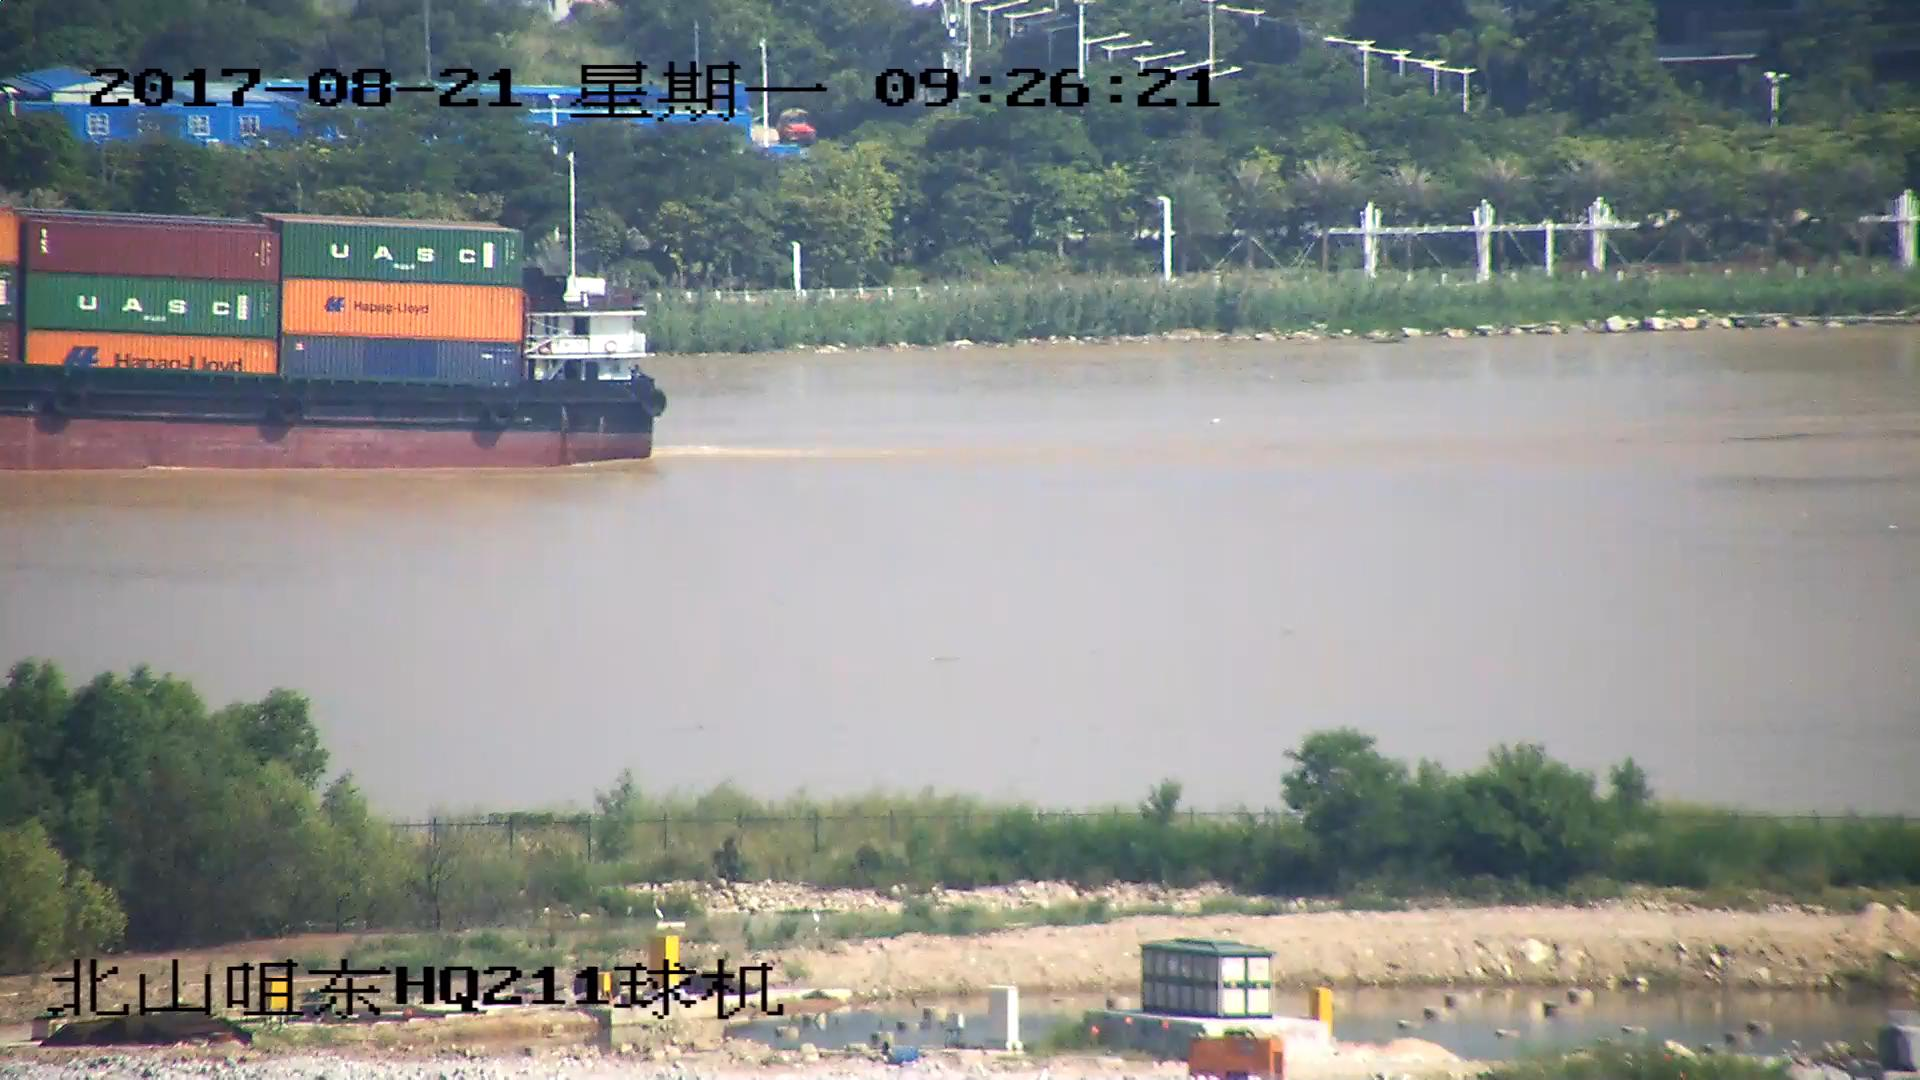container ship: (1, 156, 664, 476)
